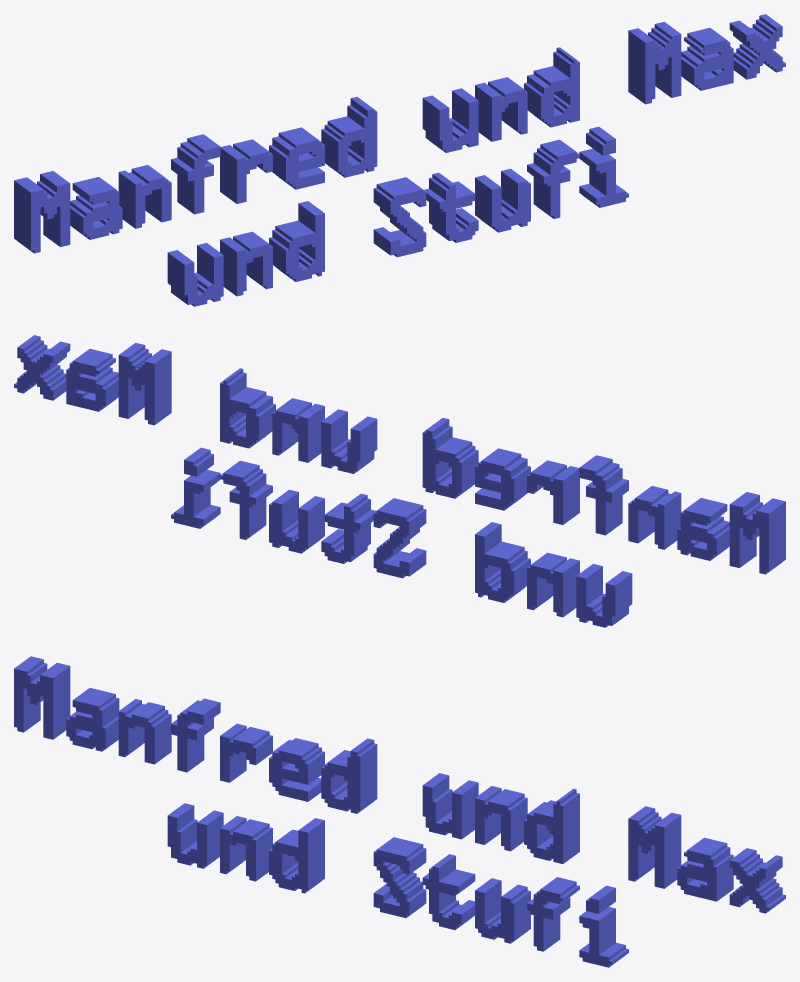
The model's file is Manfredmaxstufi2.glb.
The picture shows the model from 3 angles, top to bottom: view 1: azimuth 30°, elevation 25°; view 2: azimuth 150°, elevation 25°; view 3: azimuth 330°, elevation 25°; orthographic projection.
Visible parts, largest first — view 1: Text; view 2: Text; view 3: Text.
Part boxes in pixels (x1,y1,x2,y2): Text: (14,14,785,306); Text: (14,335,785,627); Text: (14,656,785,967).
Bounding box in the file's own units: 0.8644 × 0.1684 × 0.0337.
